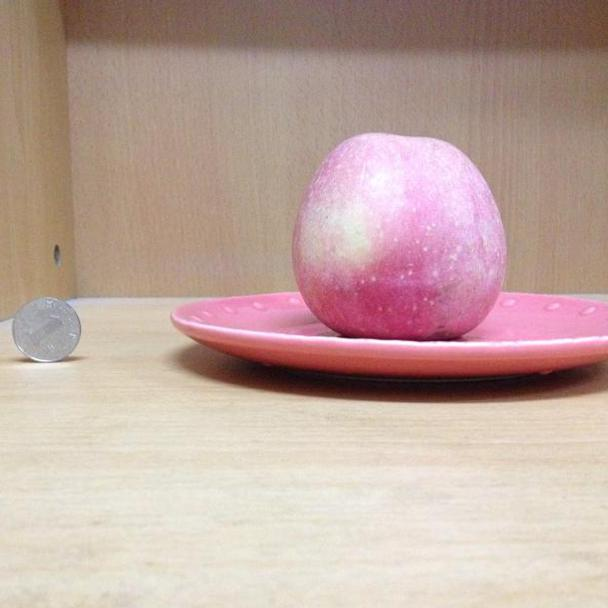apple: (292, 132, 507, 340)
